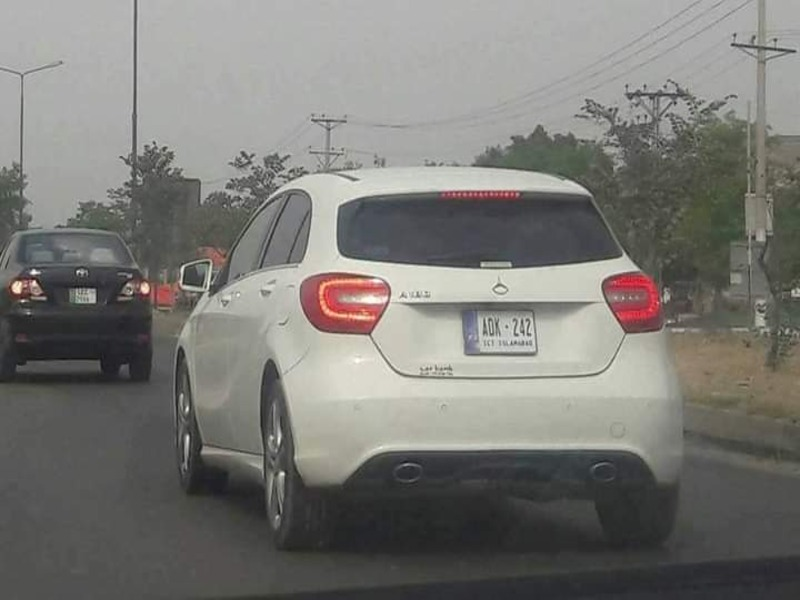License Plate: (459, 302, 545, 360), (67, 285, 101, 309)
